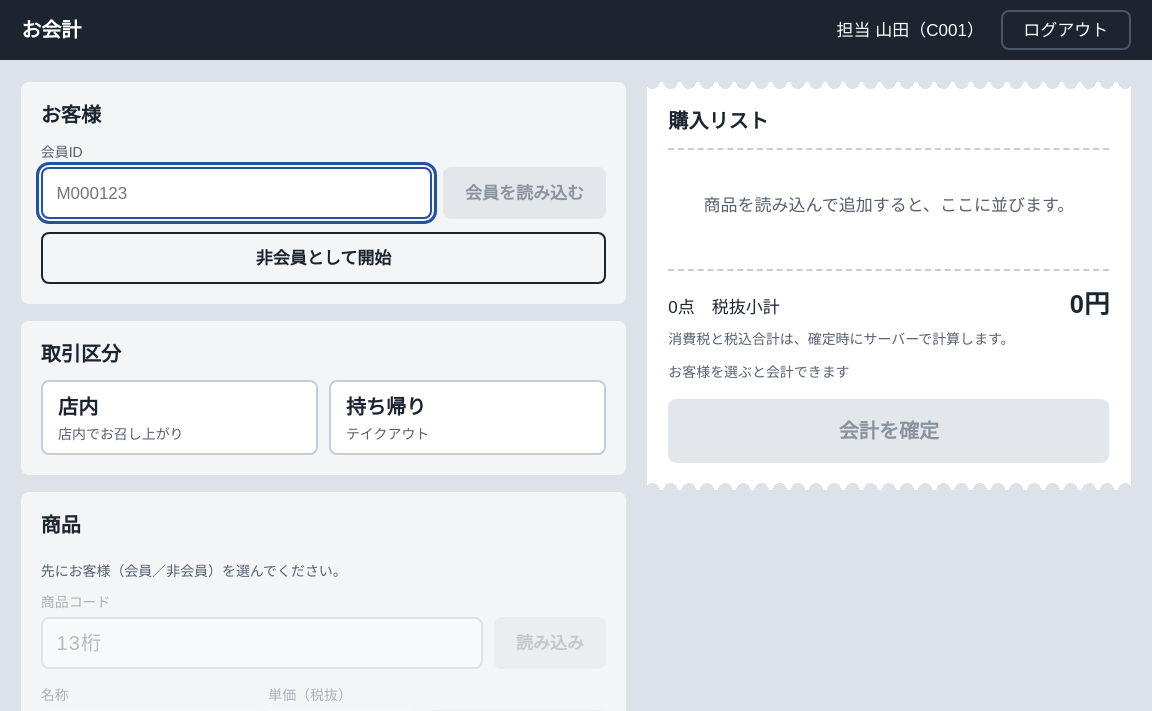
it: S-02 POSメイン画面 › T-016 取引区分が未選択だと確定ボタンは押せない
Click the button "非会員として開始". click: (324, 258)
box: [41,232,606,284]
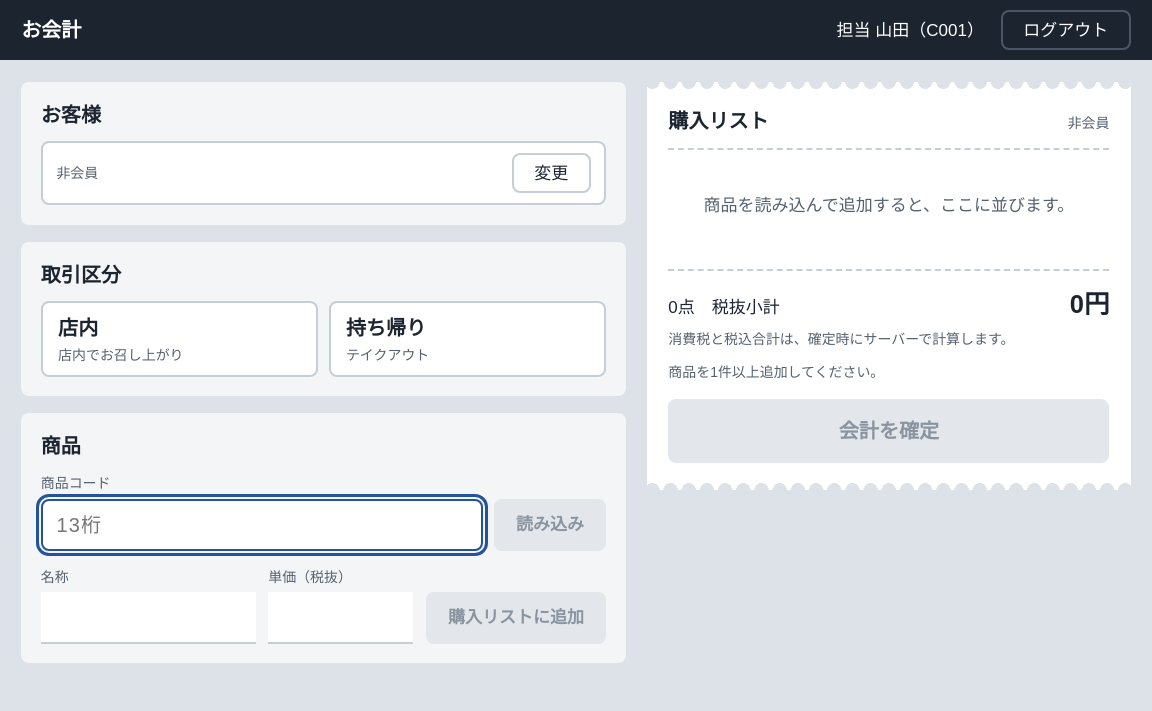
Type "4900000000011" into the field labelled "商品コード". click: (262, 525)
box: [41,499,483,551]
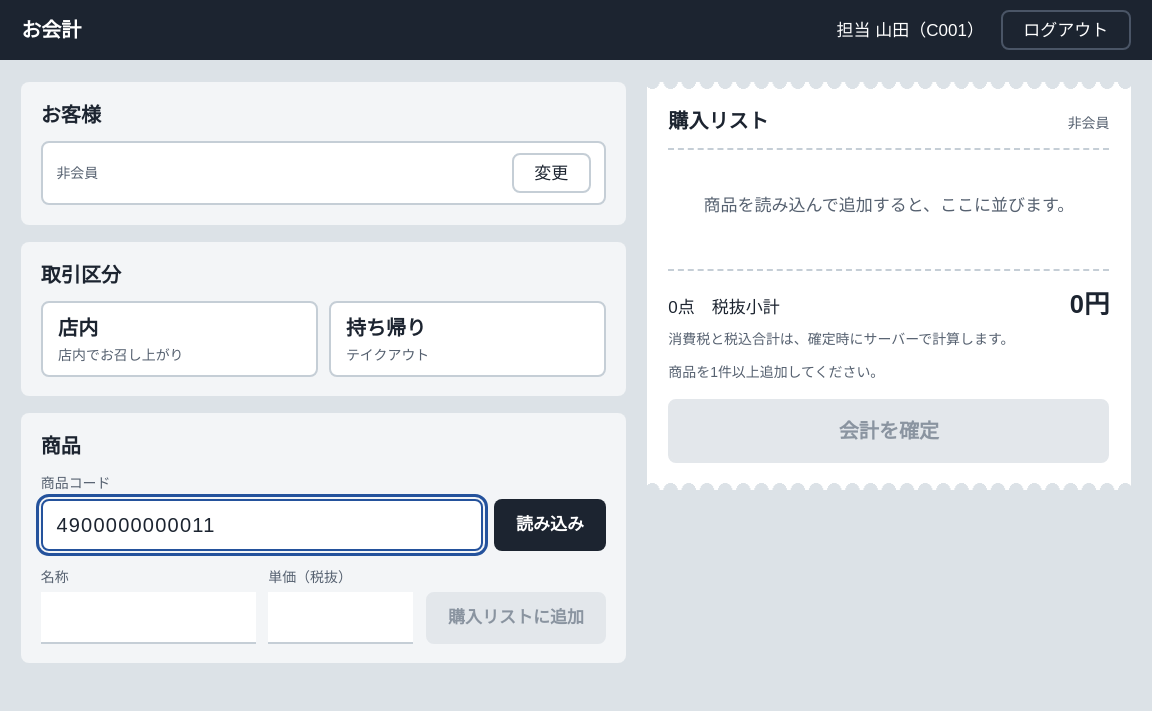
Click the button "読み込み". click: (550, 525)
box: [494,499,606,551]
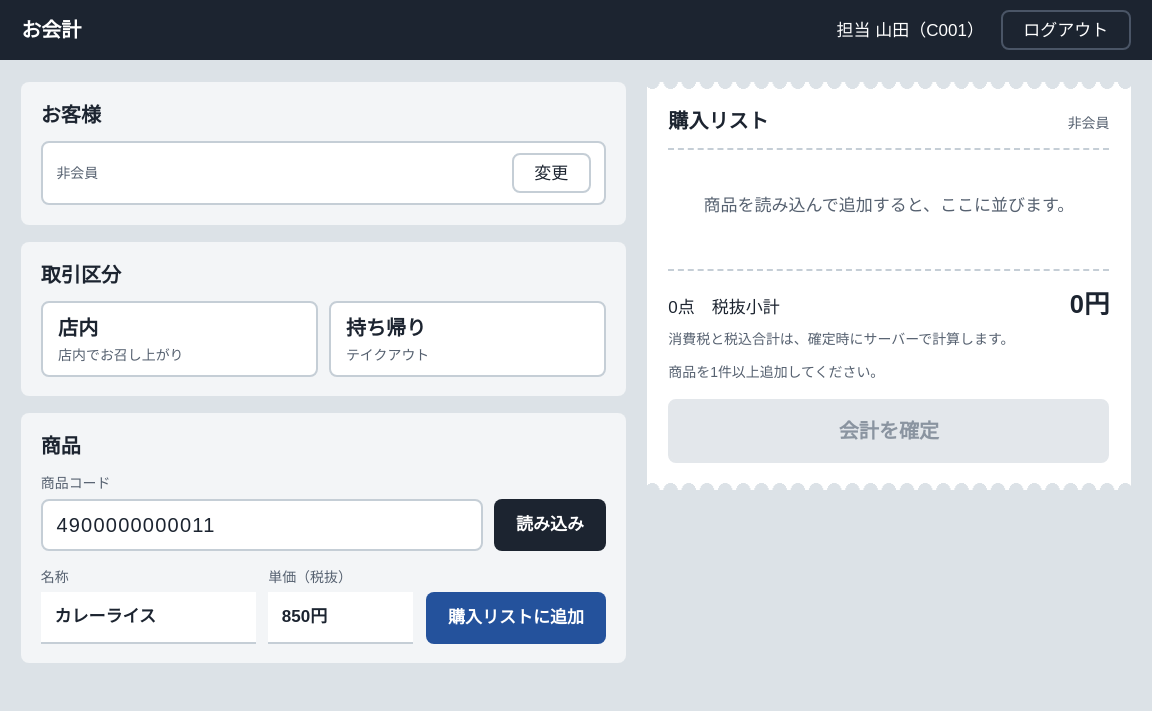
Click the button "購入リストに追加". click: (516, 618)
box: [426,592,606,644]
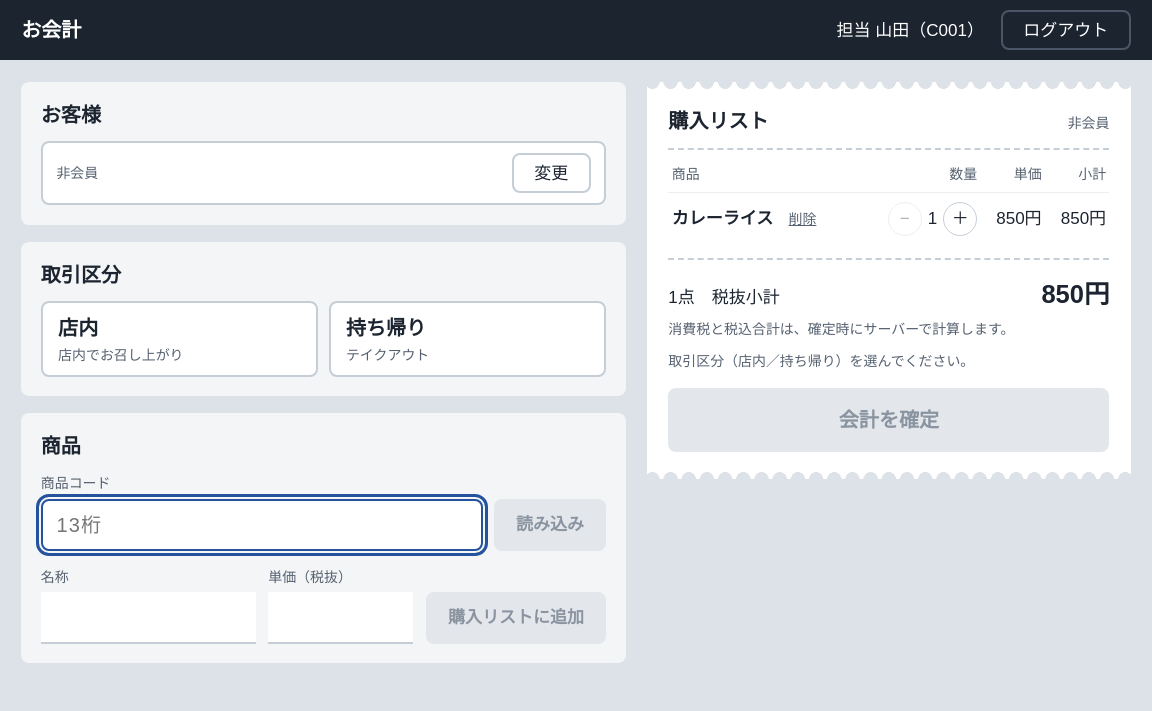
Expected: the button "会計を確定" is disabled, [668,388,1110,452]
Expected: the text "取引区分（店内／持ち帰り）を選んでください。" is shown, [668,353,974,369]
